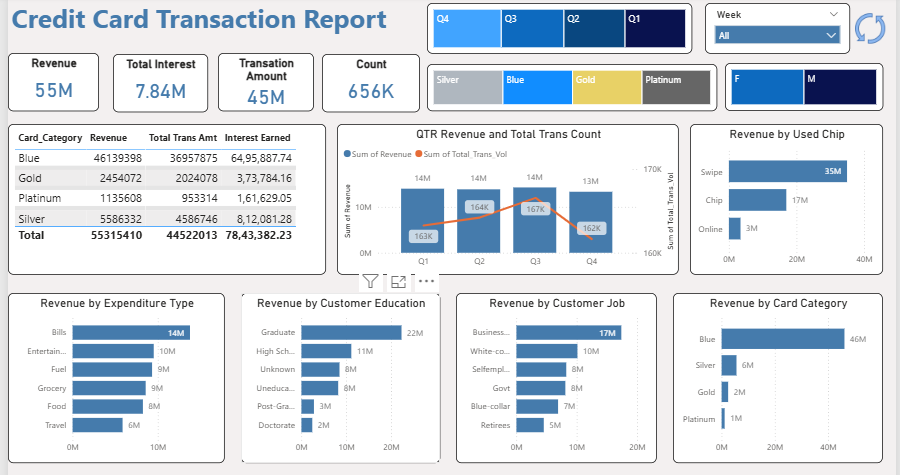

Layout of this report page (visuals, bound fields, positions):
{"tool":"powerbi","page":{"name":"Transaction Report","canvas":[1280,720],"ordinal":1},"visuals":[{"type":"textbox","box":[0,0,603.4,82.1],"z":0},{"type":"lineStackedColumnComboChart","title":"QTR Revenue and Total Trans Count","fields":{"Category":["credit_card.Qtr"],"Y":["Sum(credit_card.Revenue)"],"Y2":["Sum(credit_card.Total_Trans_Vol)"]},"box":[473.8,182.9,492.5,217.4],"z":1000},{"type":"barChart","title":" Revenue by Expenditure Type","fields":{"Y":["Sum(credit_card.Revenue)"],"Category":["credit_card.Exp Type"]},"box":[0,426.2,312.5,244.8],"z":2000},{"type":"barChart","title":" Revenue by Customer Education","fields":{"Y":["Sum(credit_card.Revenue)"],"Category":["customer.Education_Level"]},"box":[335.5,426.2,286.6,244.8],"z":3000},{"type":"barChart","title":" Revenue by Customer Job","fields":{"Y":["Sum(credit_card.Revenue)"],"Category":["customer.Customer_Job"]},"box":[645.1,426.2,289.4,244.8],"z":4000},{"type":"barChart","title":" Revenue by Card Category","fields":{"Y":["Sum(credit_card.Revenue)"],"Category":["credit_card.Card_Category"]},"box":[957.6,426.2,302.4,244.8],"z":5000},{"type":"barChart","title":" Revenue by Used Chip","fields":{"Y":["Sum(credit_card.Revenue)"],"Category":["credit_card.Use Chip"]},"box":[982.1,182.9,277.9,217.4],"z":6000},{"type":"tableEx","fields":{"Values":["credit_card.Card_Category","Sum(credit_card.Revenue)","Sum(credit_card.Total_Trans_Amt)","Sum(credit_card.Interest_Earned)"]},"box":[0,182.9,457.9,217.4],"z":7000},{"type":"card","title":"Revenue","fields":{"Values":["Sum(credit_card.Revenue)"]},"box":[0,80.6,131,83.5],"z":8000},{"type":"card","title":"Total Interest","fields":{"Values":["Sum(credit_card.Interest_Earned)"]},"box":[151.2,82.1,136.8,83.5],"z":9000},{"type":"card","title":"Transation Amount","fields":{"Values":["Sum(credit_card.Total_Trans_Amt)"]},"box":[302.4,80.6,138.2,83.5],"z":10000},{"type":"card","title":"Count","fields":{"Values":["Sum(credit_card.Total_Trans_Vol)"]},"box":[452.2,82.1,141.1,83.5],"z":11000},{"type":"slicer","fields":{"Values":["credit_card.Week_Start_Date"]},"box":[1003.7,8.6,208.8,73.4],"z":12000},{"type":"treemap","fields":{"Group":["credit_card.Qtr"],"Values":["Avg(credit_card.Client_Num)"]},"box":[603.4,8.6,381.6,73.4],"z":13000},{"type":"treemap","fields":{"Values":["Avg(credit_card.Client_Num)"],"Group":["customer.Gender"]},"box":[1032.5,95,227.5,69.1],"z":14000},{"type":"treemap","fields":{"Group":["credit_card.Card_Category"],"Values":["Avg(credit_card.Client_Num)"]},"box":[603.4,96.5,417.6,67.7],"z":15000},{"type":"image","box":[1212.5,17.3,57.6,56.2],"z":16000}]}

Visuals, with their boxes on the page's 1280x720 design canvas (x1, y1, x2, y2). These are canvas units, not pixel positions in the 900x475 screenshot, which may show the page scaled, cropped or inside an application window:
textbox: (x1=0, y1=0, x2=603, y2=82)
"QTR Revenue and Total Trans Count" lineStackedColumnComboChart: (x1=474, y1=183, x2=966, y2=400)
" Revenue by Expenditure Type" barChart: (x1=0, y1=426, x2=312, y2=671)
" Revenue by Customer Education" barChart: (x1=336, y1=426, x2=622, y2=671)
" Revenue by Customer Job" barChart: (x1=645, y1=426, x2=934, y2=671)
" Revenue by Card Category" barChart: (x1=958, y1=426, x2=1260, y2=671)
" Revenue by Used Chip" barChart: (x1=982, y1=183, x2=1260, y2=400)
tableEx - credit_card.Card_Category x Sum(credit_card.Revenue): (x1=0, y1=183, x2=458, y2=400)
"Revenue" card: (x1=0, y1=81, x2=131, y2=164)
"Total Interest" card: (x1=151, y1=82, x2=288, y2=166)
"Transation Amount" card: (x1=302, y1=81, x2=441, y2=164)
"Count" card: (x1=452, y1=82, x2=593, y2=166)
slicer - credit_card.Week_Start_Date: (x1=1004, y1=9, x2=1212, y2=82)
treemap - credit_card.Qtr x Avg(credit_card.Client_Num): (x1=603, y1=9, x2=985, y2=82)
treemap - Avg(credit_card.Client_Num) x customer.Gender: (x1=1032, y1=95, x2=1260, y2=164)
treemap - credit_card.Card_Category x Avg(credit_card.Client_Num): (x1=603, y1=96, x2=1021, y2=164)
image: (x1=1212, y1=17, x2=1270, y2=74)
